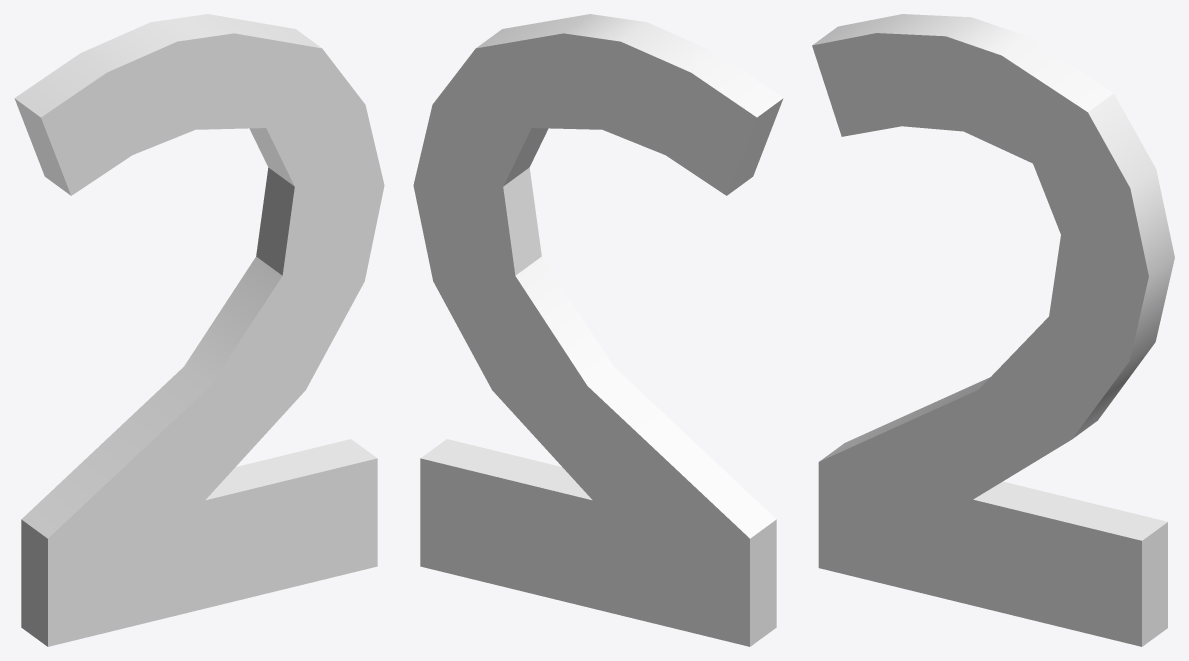
The picture shows the model from 3 angles, left to right: view 1: azimuth 30°, elevation 25°; view 2: azimuth 150°, elevation 25°; view 3: azimuth 330°, elevation 25°; orthographic projection.
Parts seen in each view (by area): view 1: So_2; view 2: So_2; view 3: So_2.
Boxes of the visible parts, x1,y1,x2,y2 form: So_2: [14, 14, 384, 646]; So_2: [413, 14, 783, 646]; So_2: [812, 14, 1174, 646].
Bounding box in the file's own units: 42.65 × 68.06 × 5.7.
